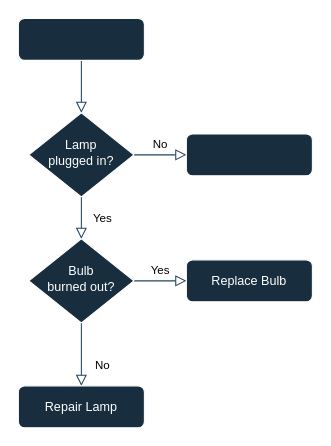
Image size: 331x446. Some labels were removed from this diagram. The centre of each missing label's shape, as x and y in pixels:
"Plug in lamp" belongs at point (248, 154).
"testando" belongs at point (80, 38).
